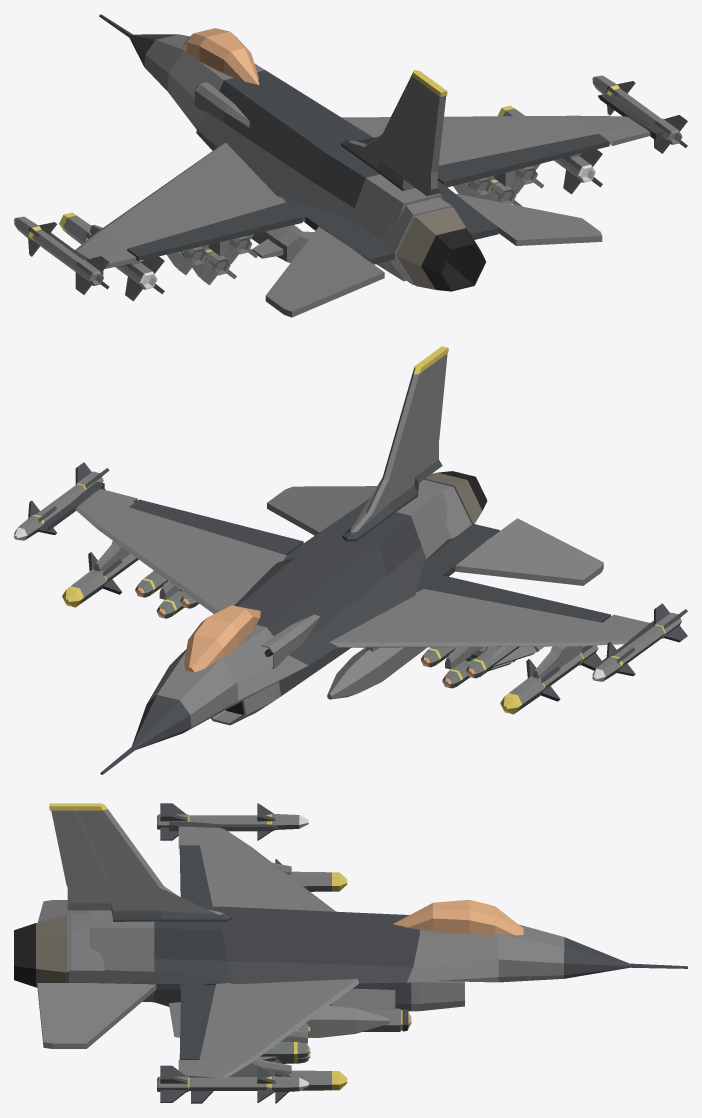
The model's file is f-16_fighter_jet.glb.
3 renders of one model, top to bottom at view 1: azimuth 30°, elevation 25°; view 2: azimuth 150°, elevation 25°; view 3: azimuth 270°, elevation 25°, orthographic. The views are drawn at different scales.
Visible parts, largest first — view 1: F-16; view 2: F-16; view 3: F-16.
Part boxes in pixels (box(x1,y1,x2,y2)): F-16: box(14, 14, 687, 317); F-16: box(14, 346, 687, 774); F-16: box(14, 803, 687, 1103).
Bounding box in the file's own units: 13.78 × 5.25 × 14.28.
